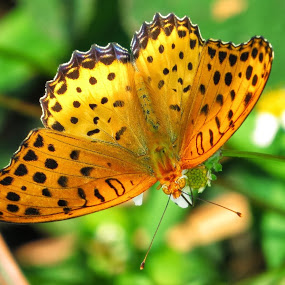Argyreus hyperbius: (1, 9, 274, 274)
butterfly: (1, 9, 275, 274)
